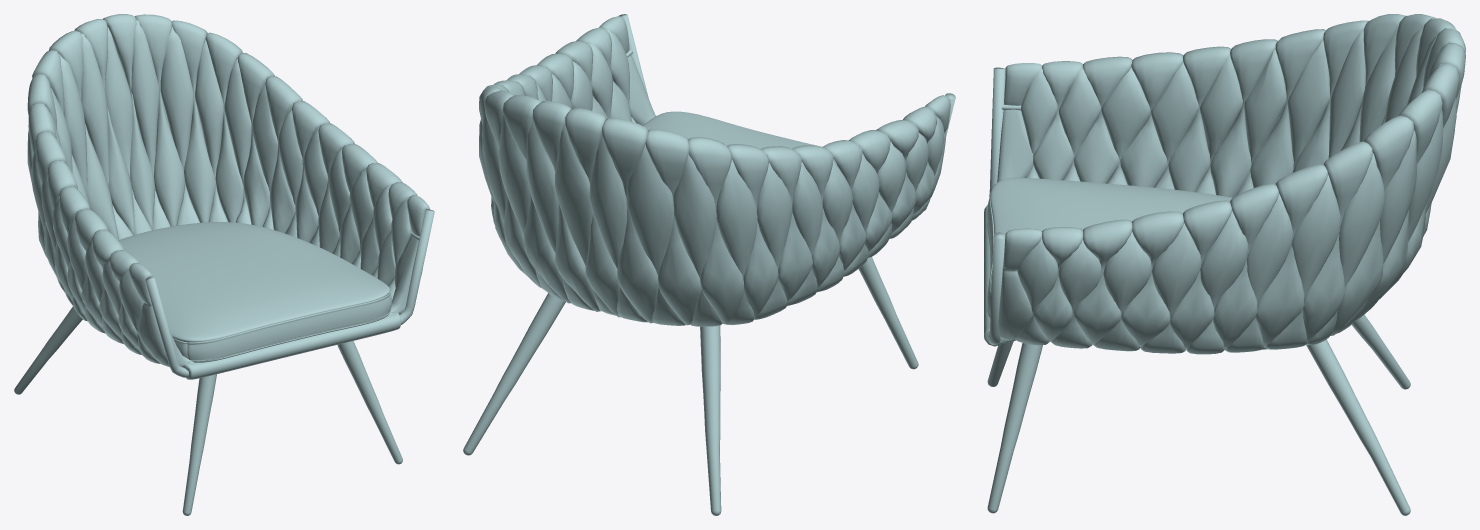
The model's file is woven_chair.fbx.
3 views of the same model, side by side, from view 1: azimuth 30°, elevation 25°; view 2: azimuth 150°, elevation 25°; view 3: azimuth 270°, elevation 25° (orthographic). The views are drawn at different scales.
Visible parts, largest first — view 1: Woven Chair; view 2: Woven Chair; view 3: Woven Chair.
Boxes of the visible parts, box(x1,y1,x2,y2) form: Woven Chair: box(14, 14, 434, 515); Woven Chair: box(463, 14, 955, 515); Woven Chair: box(984, 14, 1465, 515).
Size of the model in its own units: 65.39 by 69.58 by 73.77.
